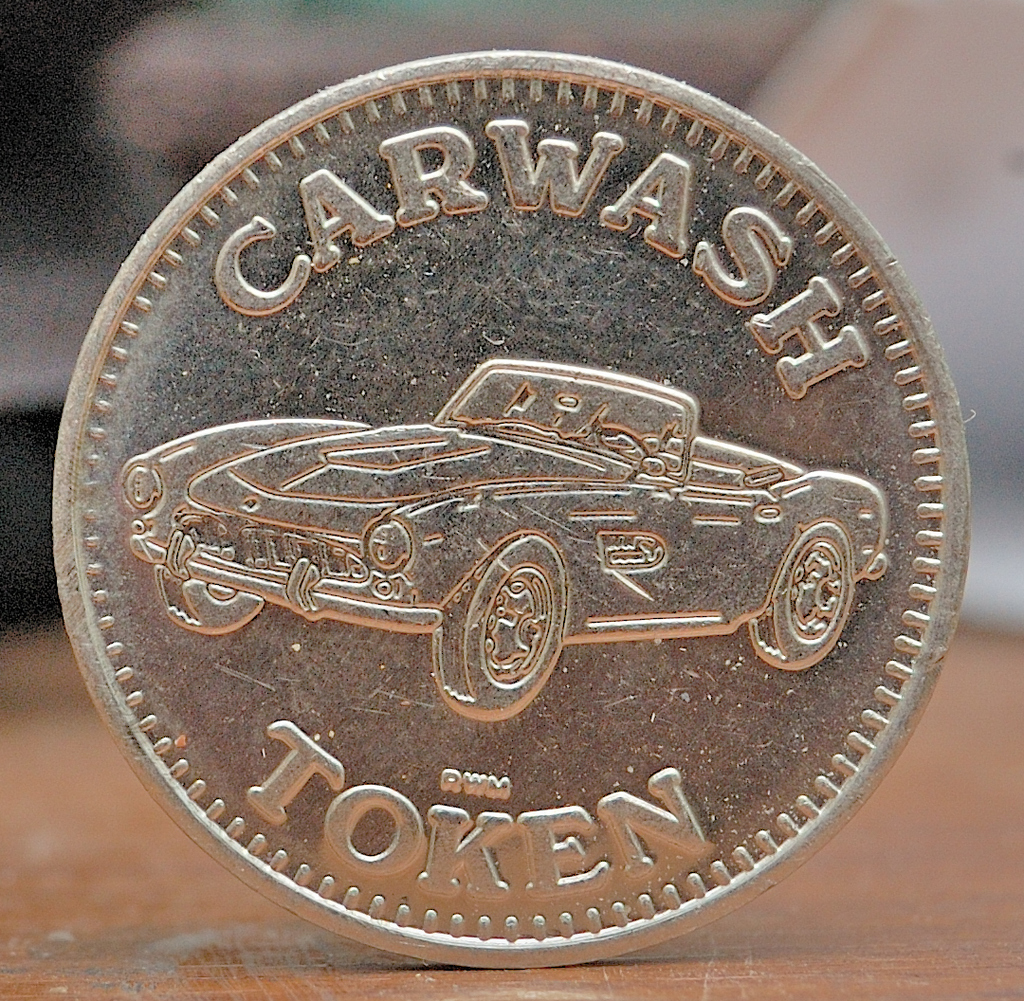Coin: (50, 47, 971, 969)
